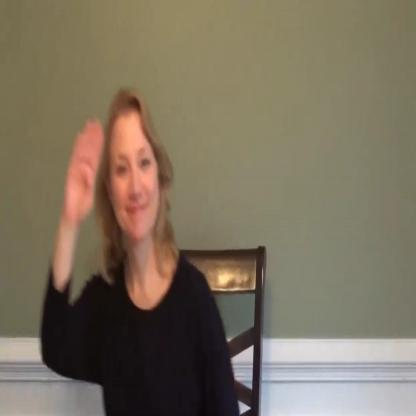Hello: (44, 62, 209, 348)
